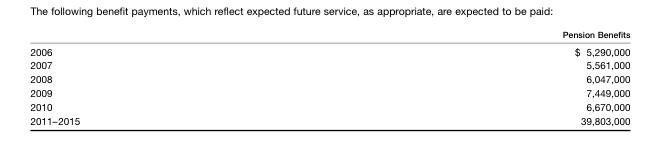table: (29, 28, 629, 126)
table column: (320, 28, 629, 126), (29, 28, 320, 126)
table column header: (29, 28, 629, 41)
table row: (29, 41, 629, 57), (29, 57, 629, 71), (29, 71, 629, 85), (29, 85, 629, 99), (29, 99, 629, 113), (29, 28, 629, 41), (29, 113, 629, 126)
